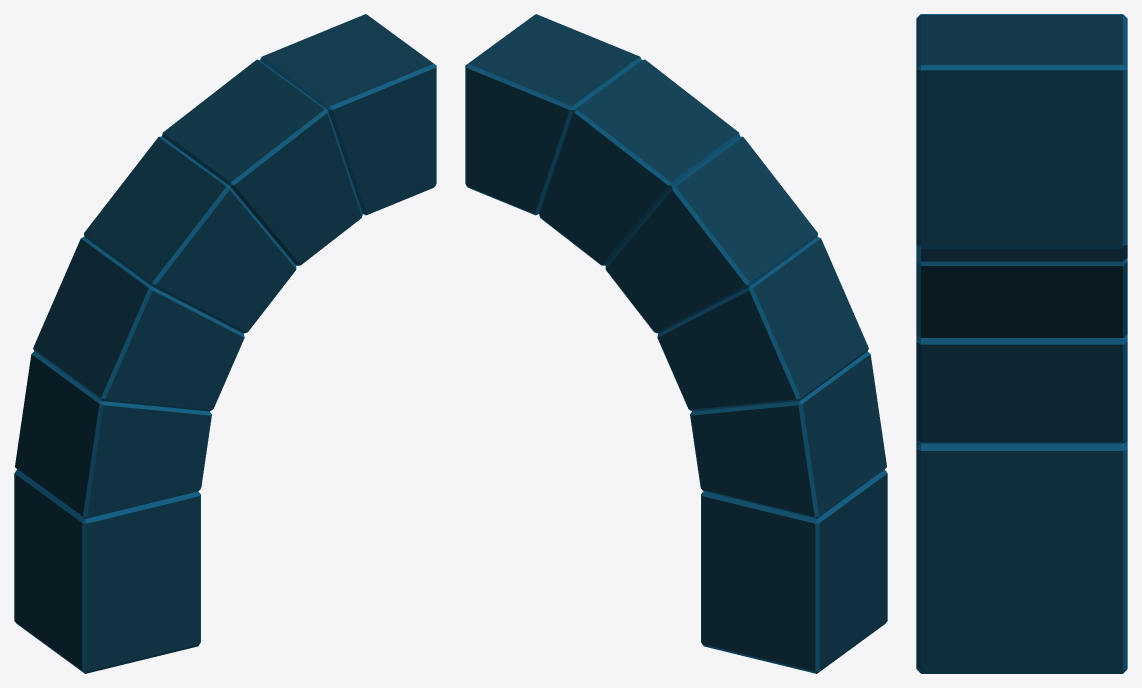
File: gatePiece_type_01.fbx
3 views of the same model, side by side, from view 1: azimuth 30°, elevation 25°; view 2: azimuth 150°, elevation 25°; view 3: azimuth 270°, elevation 25° (orthographic). The views are drawn at different scales.
Parts seen in each view (by area): view 1: gatePiece_type_01; view 2: gatePiece_type_01; view 3: gatePiece_type_01.
Part boxes in pixels (x1=…): gatePiece_type_01: x1=14, y1=14, x2=436, y2=673; gatePiece_type_01: x1=465, y1=14, x2=887, y2=673; gatePiece_type_01: x1=916, y1=14, x2=1127, y2=673.
Size of the model in its own units: 172 by 244 by 60.
